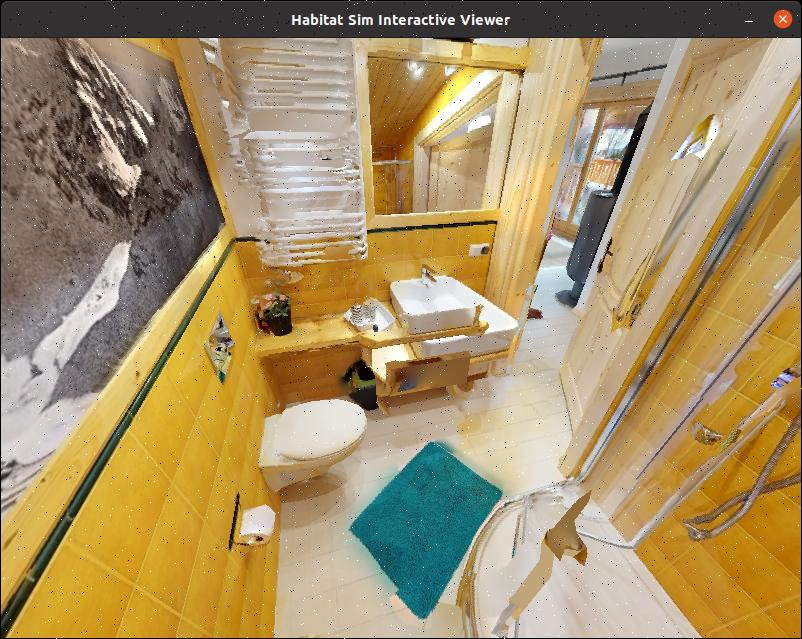shower: (436, 141, 801, 639)
sink: (379, 257, 498, 346)
toilet: (240, 385, 381, 502)
